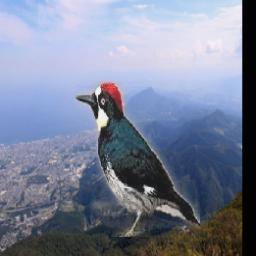Woodpecker: (75, 82, 200, 238)
